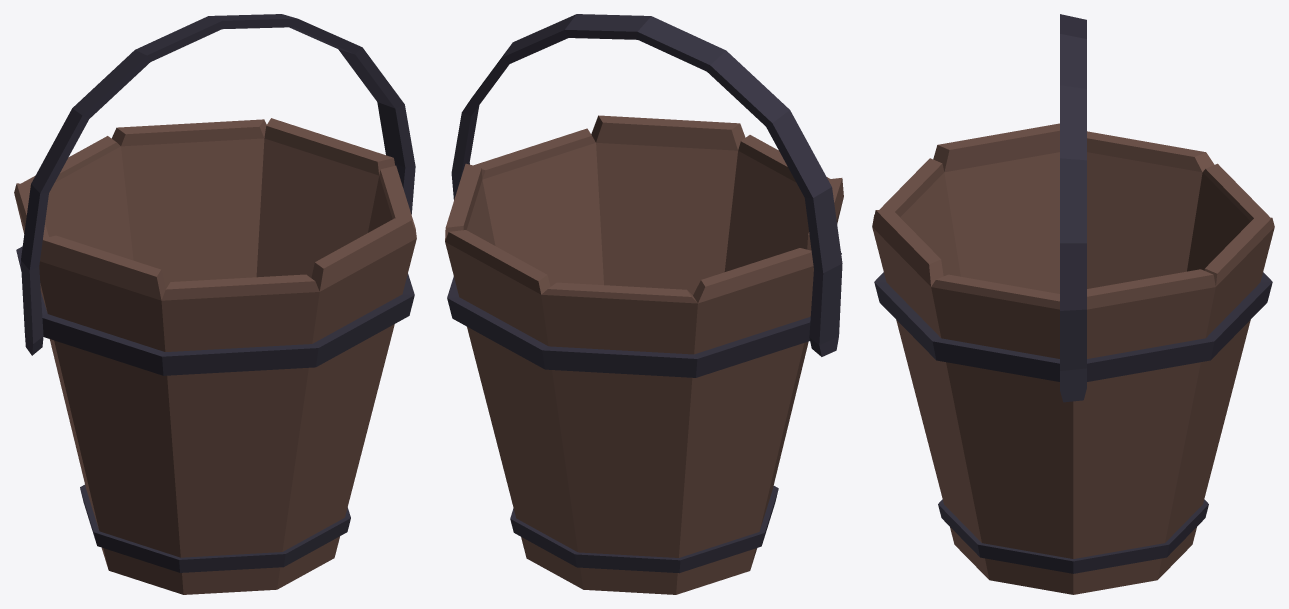
Rendered from bucket.glb.
The picture shows the model from 3 angles, left to right: view 1: azimuth 30°, elevation 25°; view 2: azimuth 150°, elevation 25°; view 3: azimuth 270°, elevation 25°; orthographic projection. The views are drawn at different scales.
Visible parts, largest first — view 1: bucket; view 2: bucket; view 3: bucket.
Part boxes in pixels (x1,y1,x2,y2): bucket: (14, 14, 416, 594); bucket: (445, 14, 843, 594); bucket: (872, 14, 1274, 594).
Size of the model in its own units: 0.3309 by 0.4335 by 0.3097.
